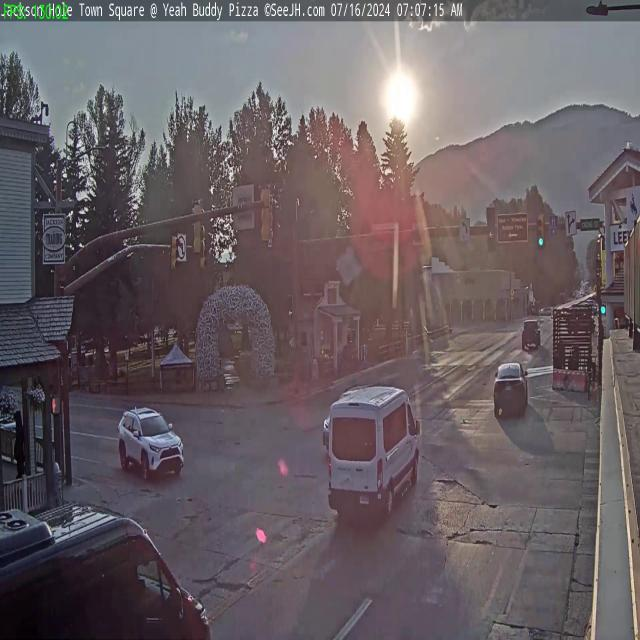sedan: (493, 358, 529, 417)
suv: (0, 498, 211, 640), (116, 403, 186, 485)
traffic light: (260, 184, 274, 245), (190, 199, 204, 254), (170, 231, 180, 272), (487, 206, 496, 250), (536, 214, 546, 248)
van: (320, 380, 424, 524)
